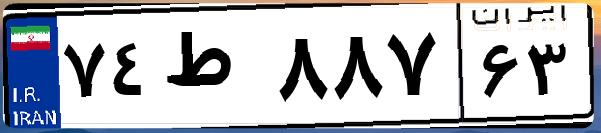3: (525, 38, 570, 115)
4: (110, 28, 158, 98)
6: (475, 38, 525, 113)
7: (385, 28, 445, 110), (57, 26, 110, 100)
8: (270, 28, 330, 110), (330, 28, 385, 110)
ط: (158, 20, 270, 120)
